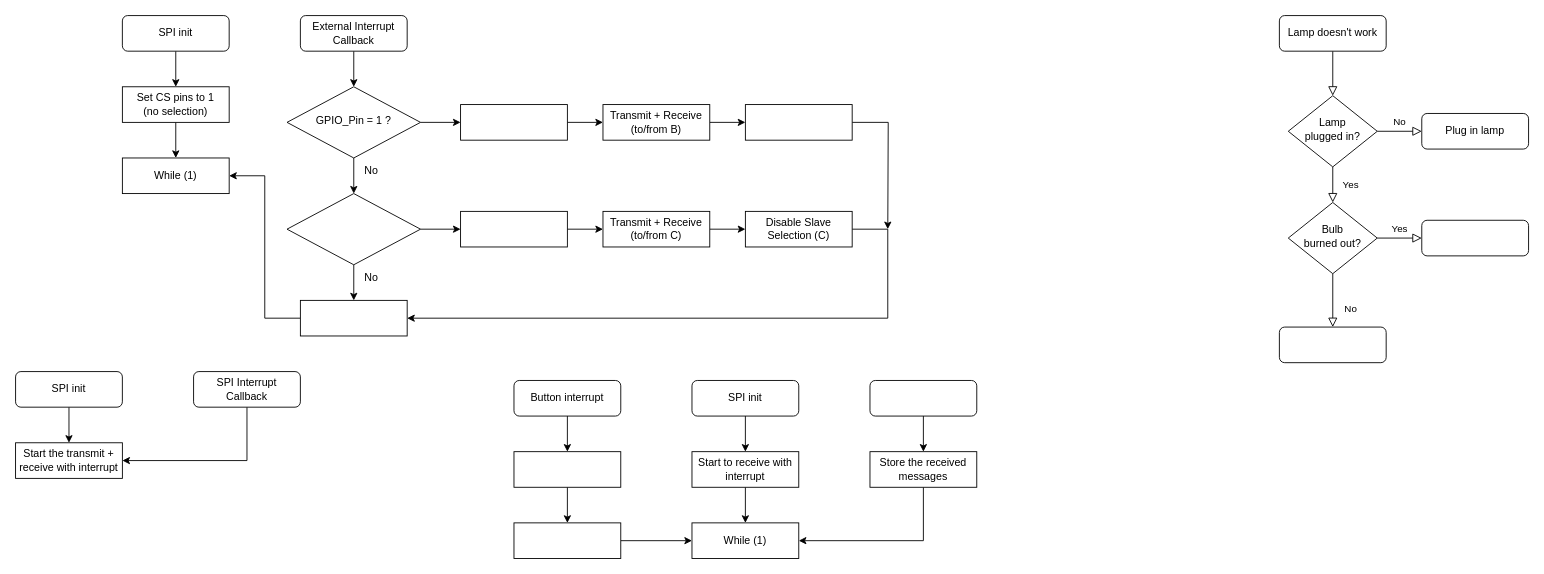
Some shapes in this 1544 by 574 pixel diagram are drawn without their labels. The box of each missing label's shape, as (x1, y1, x2, y2) in pixels:
Chip selection: (513, 451, 621, 487)
Debouncing: (299, 299, 407, 336)
Disable Slave Selection (B): (744, 104, 852, 140)
GPIO_Pin = 2 ?: (286, 193, 421, 265)
Message transmission: (513, 522, 621, 558)
NSS for Slave B: (460, 104, 567, 140)
NSS for Slave C: (460, 210, 567, 247)
Receive interrupt: (869, 380, 977, 416)
Repair Lamp: (1278, 326, 1386, 363)
Replace Bulb: (1421, 219, 1529, 256)
